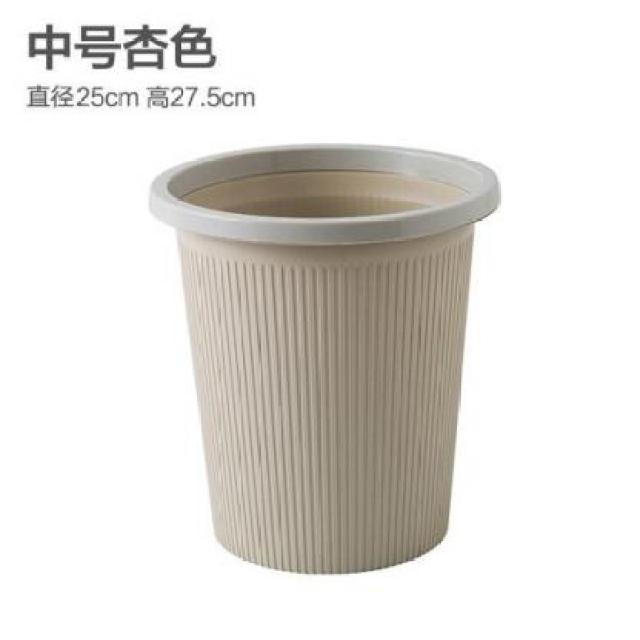dustbin: (144, 140, 503, 580)
